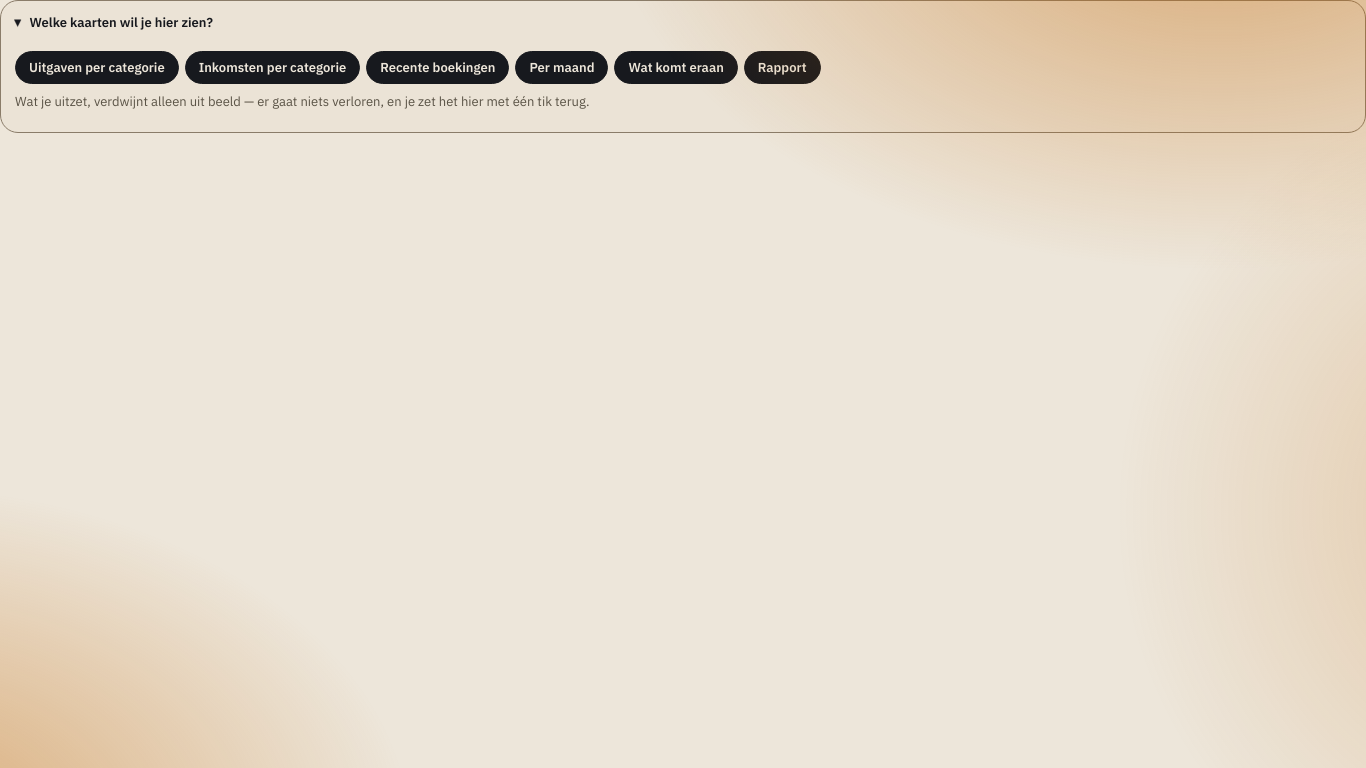
Scenario: OverzichtKaartkeuze (ronde 90) › zegt wat er net veranderde
This screenshot has width=1366, height=768.
Click the button "Wat komt eraan". click: [676, 68]
box: [614,51,738,84]
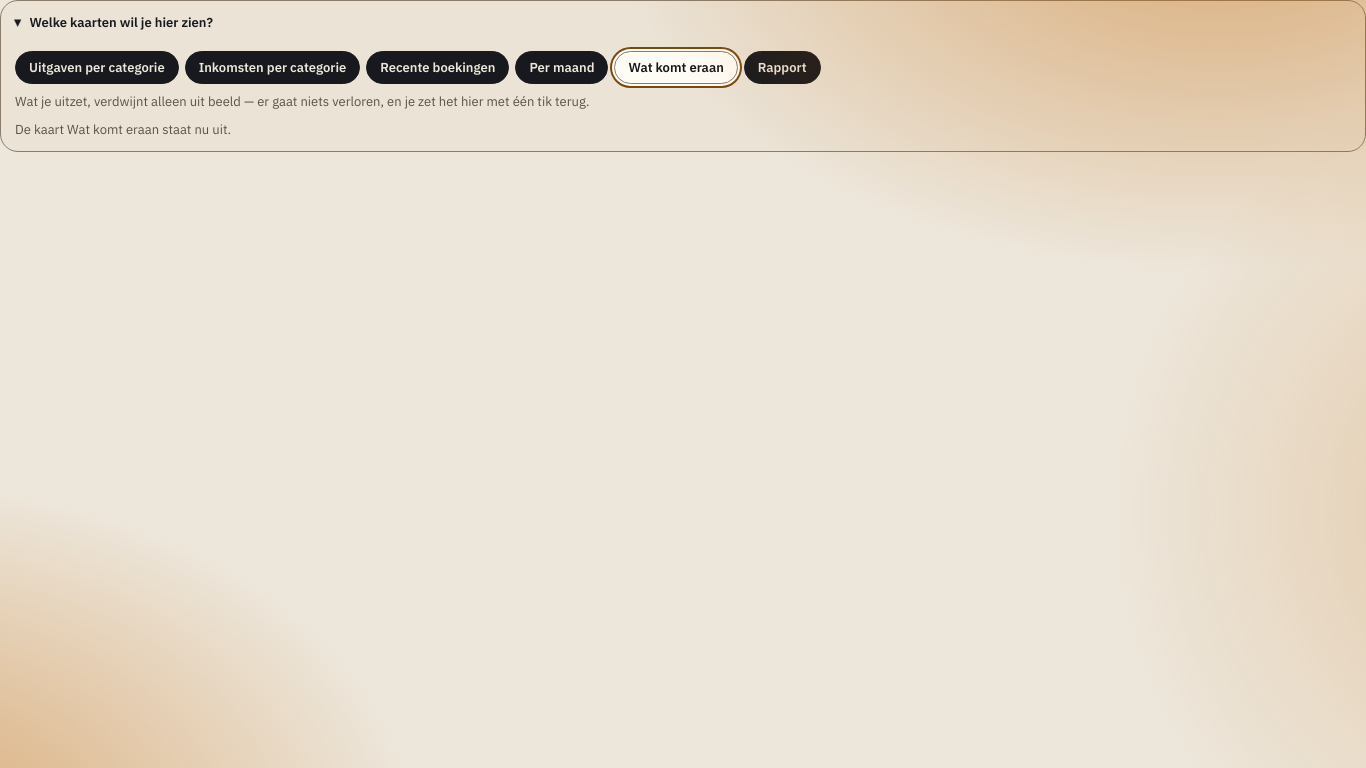
Now the message "De kaart Wat komt eraan staat nu uit." is shown, box [15,120,231,138]
Click the button "Wat komt eraan". click: [676, 68]
box: [614,51,738,84]
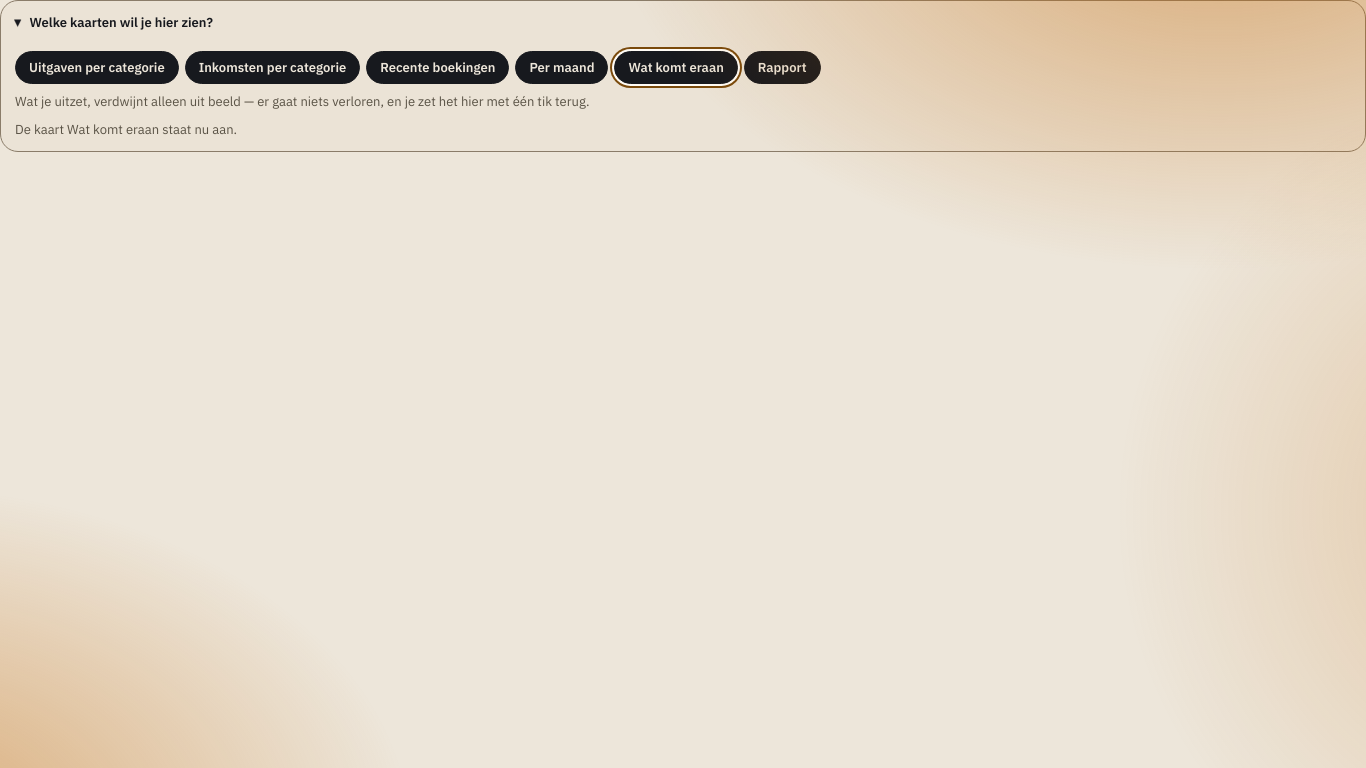
Now the message "De kaart Wat komt eraan staat nu aan." is shown, box [15,120,237,138]
